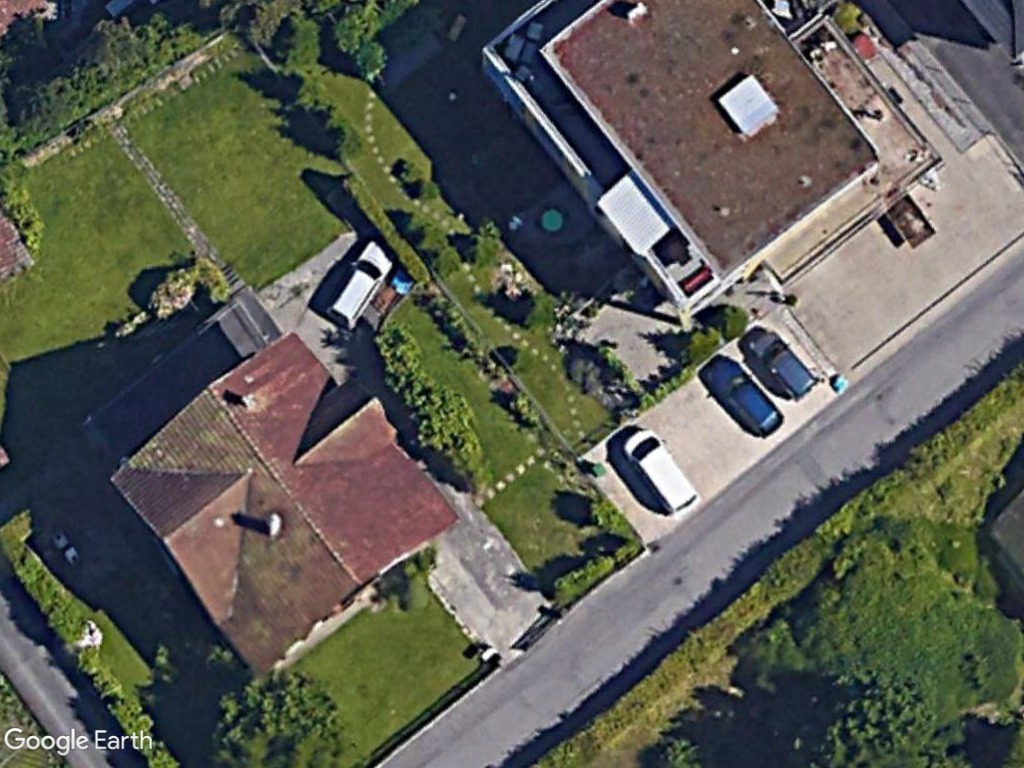car: (322, 235, 396, 330), (703, 354, 785, 439), (736, 325, 818, 401)
van: (618, 424, 701, 516)
